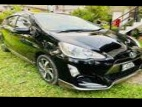car: (0, 12, 142, 91)
